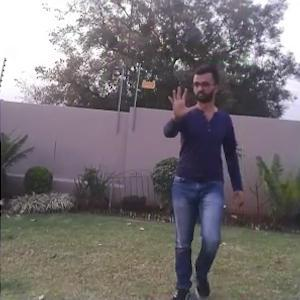follow_hand: (164, 81, 198, 123)
